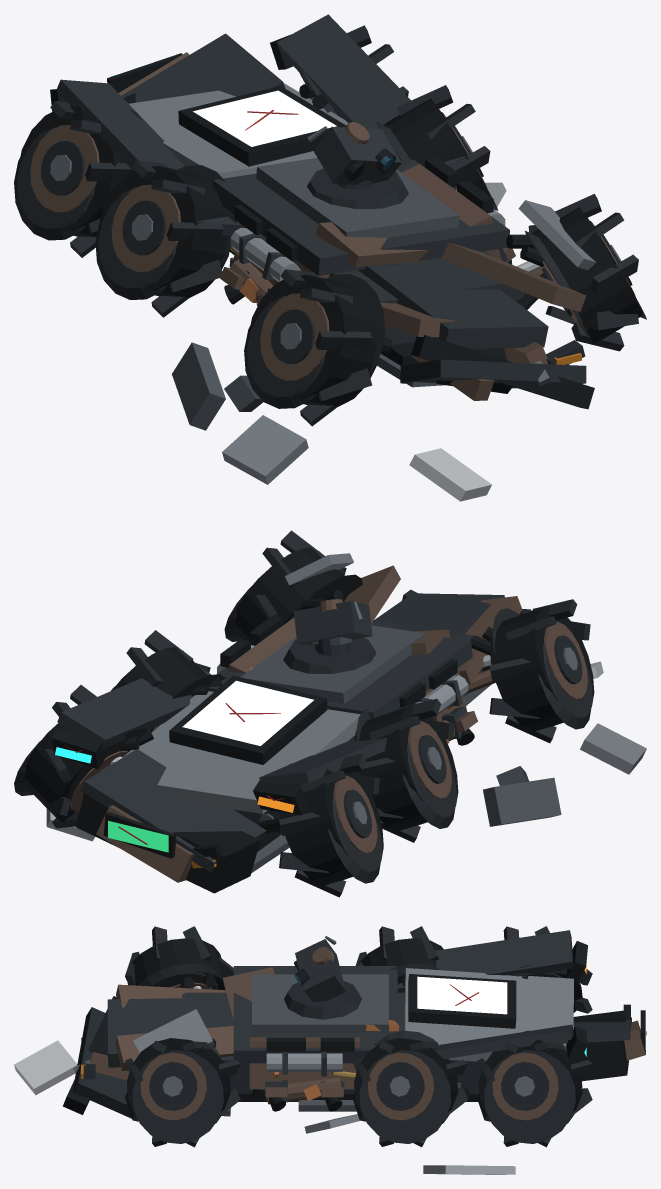
The model's file is r47x_recon_rover_d3_lod0.glb.
3 renders of one model, top to bottom at view 1: azimuth 30°, elevation 25°; view 2: azimuth 150°, elevation 25°; view 3: azimuth 270°, elevation 25°, orthographic. The views are drawn at different scales.
Visible parts, largest first — view 1: CHASSIS_ARMOR_BODY, ZONE_FRONT_BUMPER, WHEEL_FL, WHEEL_ML, WHEEL_RL, ZONE_FLANK_POS_X, ZONE_FLANK_NEG_X, WHEEL_FR, ZONE_REAR_PANEL, WHEEL_MR, DISPLAY_FDAI_TELEMETRY_PANEL, SENSOR_MAST_HEAD (+6 smaller); view 2: CHASSIS_ARMOR_BODY, ZONE_REAR_PANEL, WHEEL_FL, WHEEL_RL, WHEEL_ML, ZONE_FLANK_POS_X, ZONE_FRONT_BUMPER, WHEEL_FR, ZONE_FLANK_NEG_X, WHEEL_RR, DISPLAY_FDAI_TELEMETRY_PANEL, WHEEL_MR (+6 smaller); view 3: CHASSIS_ARMOR_BODY, ZONE_FRONT_BUMPER, WHEEL_MR, WHEEL_FR, WHEEL_RR, ZONE_FLANK_POS_X, ZONE_FLANK_NEG_X, WHEEL_FL, ZONE_REAR_PANEL, DISPLAY_FDAI_TELEMETRY_PANEL, WHEEL_ML, SENSOR_MAST_HEAD (+6 smaller).
Boxes of the visible parts, x1,y1,x2,y2 form: CHASSIS_ARMOR_BODY: (129,83,524,365); ZONE_FRONT_BUMPER: (358,200,596,409); WHEEL_FL: (244,269,385,426); WHEEL_ML: (95,160,236,317); WHEEL_RL: (14,101,143,257); ZONE_FLANK_POS_X: (270,14,505,260); ZONE_FLANK_NEG_X: (50,79,329,303); WHEEL_FR: (525,194,646,351); ZONE_REAR_PANEL: (107,33,285,103); WHEEL_MR: (376,85,498,210); DISPLAY_FDAI_TELEMETRY_PANEL: (193,90,336,146); SENSOR_MAST_HEAD: (307,122,401,189); CHASSIS_ARMOR_BODY: (122,620,483,851); ZONE_REAR_PANEL: (75,749,289,893); WHEEL_FL: (489,599,594,743); WHEEL_RL: (279,753,383,897); WHEEL_ML: (354,698,458,842); ZONE_FLANK_POS_X: (51,615,296,769); ZONE_FRONT_BUMPER: (285,553,531,705); WHEEL_FR: (224,530,362,641); ZONE_FLANK_NEG_X: (253,659,468,815); WHEEL_RR: (14,685,147,828); DISPLAY_FDAI_TELEMETRY_PANEL: (182,680,313,745); WHEEL_MR: (111,630,225,732); CHASSIS_ARMOR_BODY: (182,966,573,1111); ZONE_FRONT_BUMPER: (62,984,233,1118); WHEEL_MR: (352,1030,467,1147); WHEEL_FR: (125,1038,240,1147); WHEEL_RR: (477,1030,592,1147); ZONE_FLANK_POS_X: (249,1024,587,1104); ZONE_FLANK_NEG_X: (360,930,587,992); WHEEL_FL: (125,926,233,989); ZONE_REAR_PANEL: (474,1004,645,1094); DISPLAY_FDAI_TELEMETRY_PANEL: (417,976,507,1014); WHEEL_ML: (355,926,443,983); SENSOR_MAST_HEAD: (294,936,345,1001).
Bounding box in the file's own units: 3.35 × 1.59 × 5.18.
